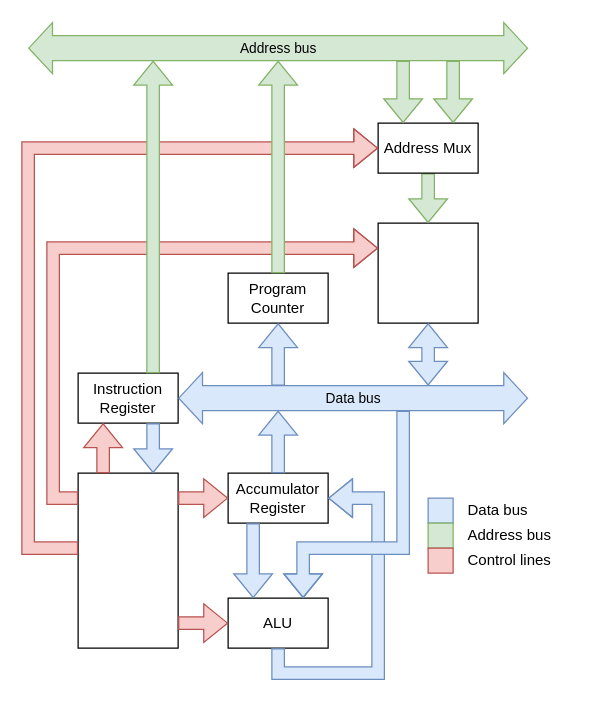
Image size: 600x701. Some labels were removed from this diagram. Here are the shapes that lost their labels. From the top down, the centre of each, then its label:
the point at 427,272: Memory
the point at 127,560: Controller
